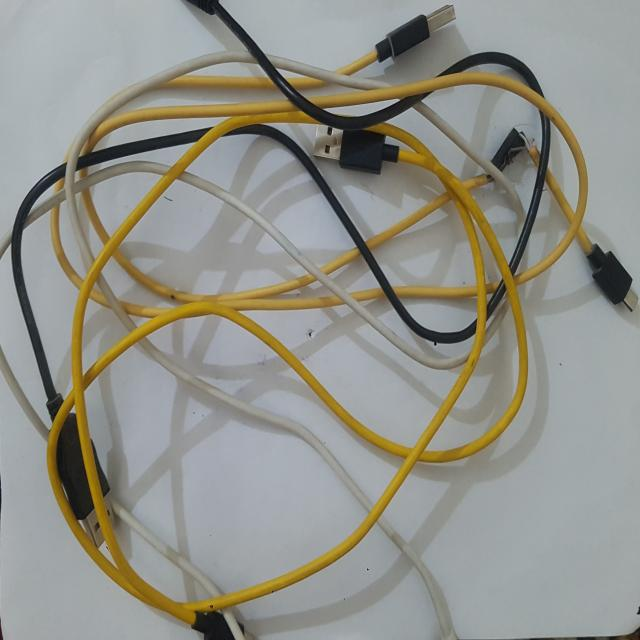electronic: (1, 5, 610, 202)
